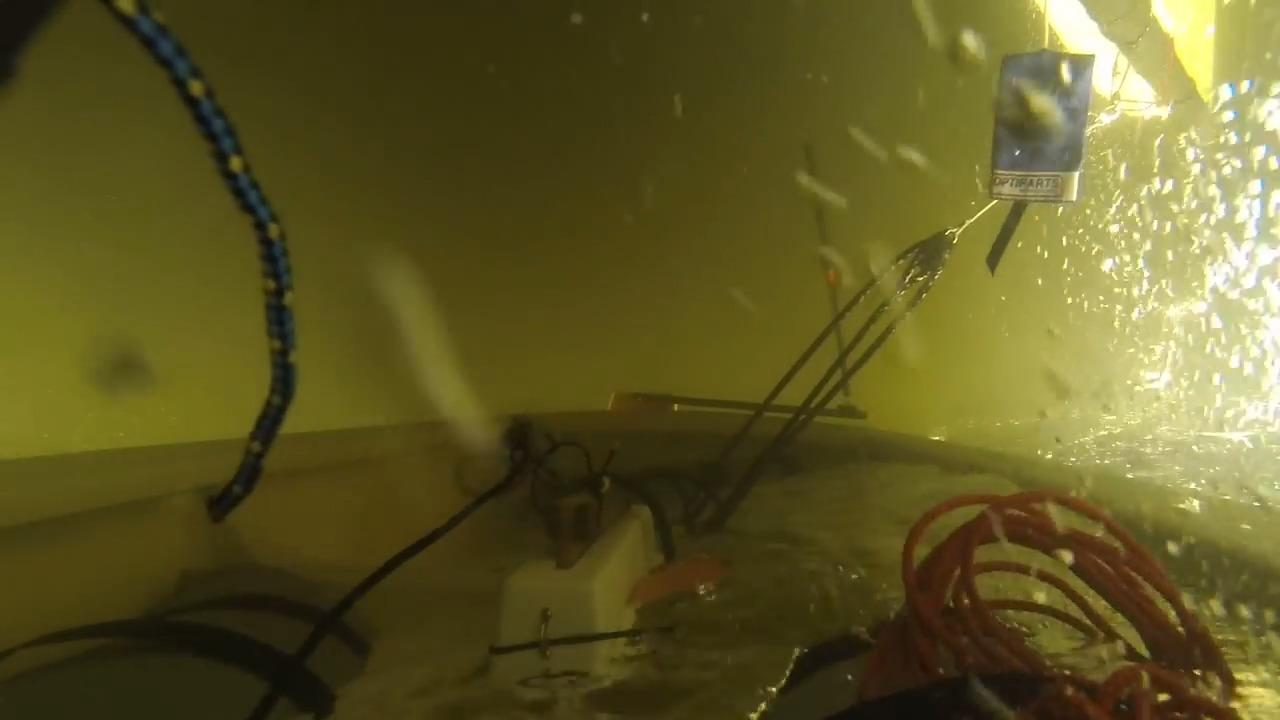boat: (0, 229, 1280, 720)
underwater: (0, 0, 1280, 720)
